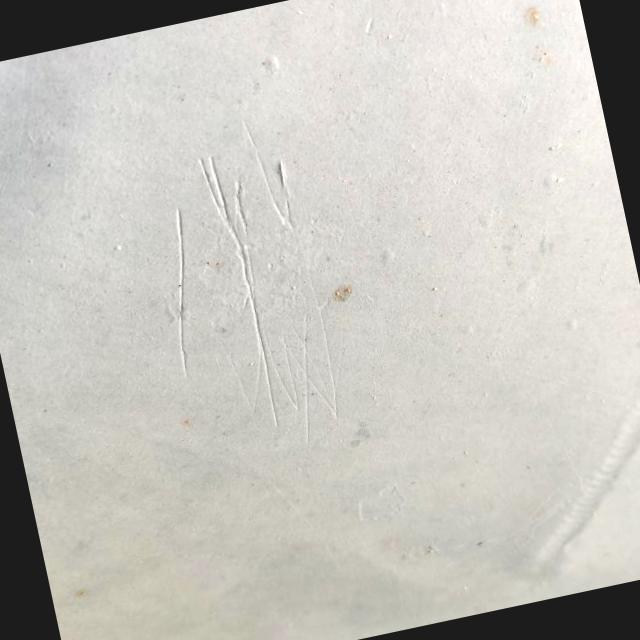scratch: (117, 118, 371, 470)
